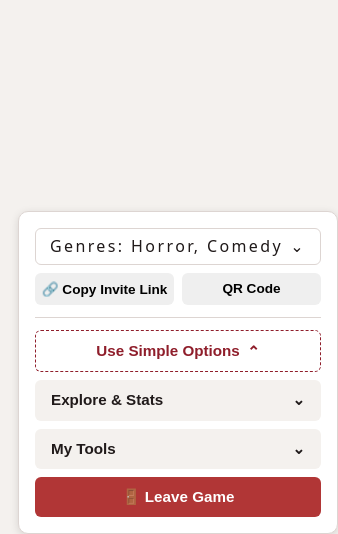
Test case: GameMenu › lets any player access whole-board swap from My Tools
(page scrolled)
Click the button "My Tools": (83, 448) x1=35 y1=428 x2=321 y2=469
(page scrolled)
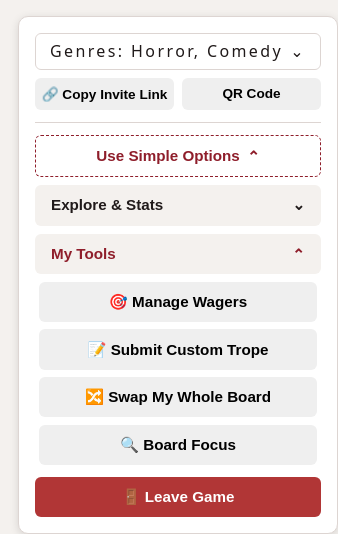
Check: the button "🔀 Swap My Whole Board" is shown, box x1=39 y1=377 x2=317 y2=417
